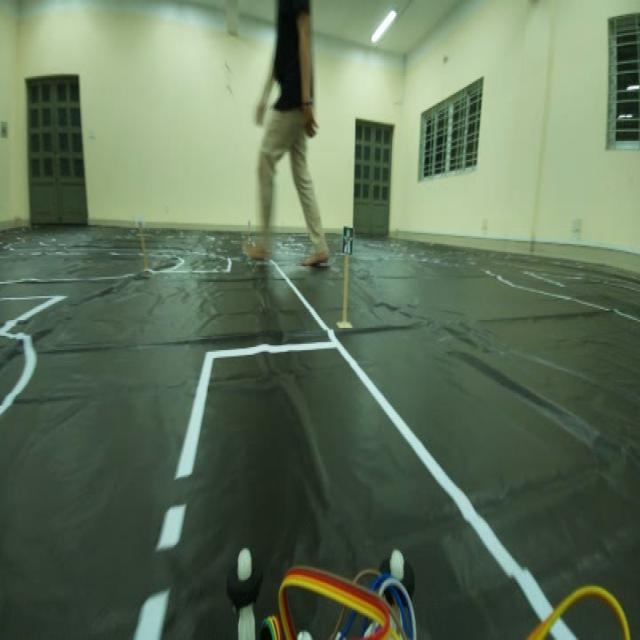highway_exit: (341, 218, 358, 257)
